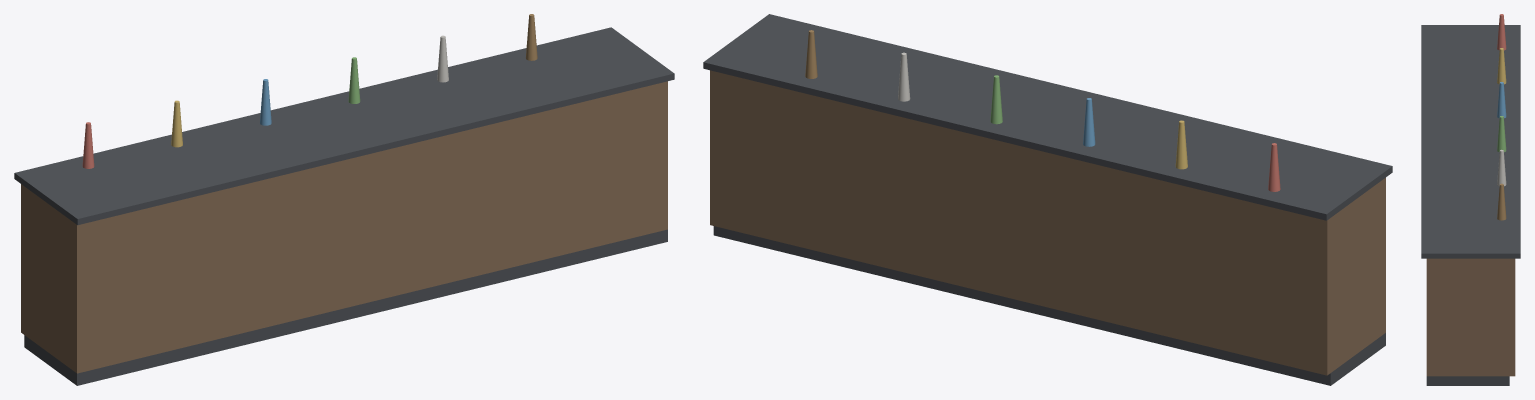
File: 1774-Furniture-interiors-barCounter.glb
3 views of the same model, side by side, from view 1: azimuth 30°, elevation 25°; view 2: azimuth 150°, elevation 25°; view 3: azimuth 270°, elevation 25° (orthographic). The views are drawn at different scales.
Visible parts, largest first — view 1: Furniture (interiors)/barCounter; view 2: Furniture (interiors)/barCounter; view 3: Furniture (interiors)/barCounter.
Boxes of the visible parts, x1,y1,x2,y2 form: Furniture (interiors)/barCounter: (14,14,674,385); Furniture (interiors)/barCounter: (703,14,1392,385); Furniture (interiors)/barCounter: (1421,14,1520,385).
Size of the model in its own units: 4.04 by 1.38 by 0.74.
